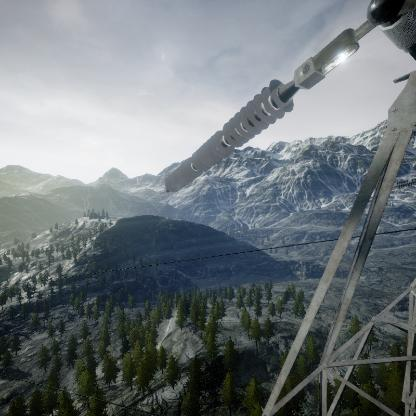insulator: (157, 78, 297, 192)
